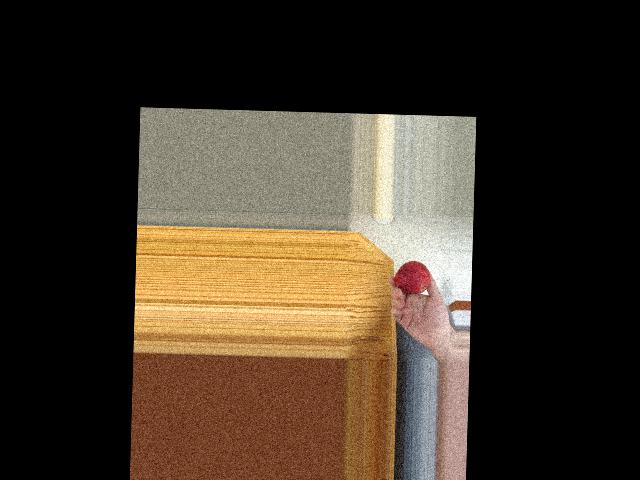apple: (395, 258, 430, 294)
